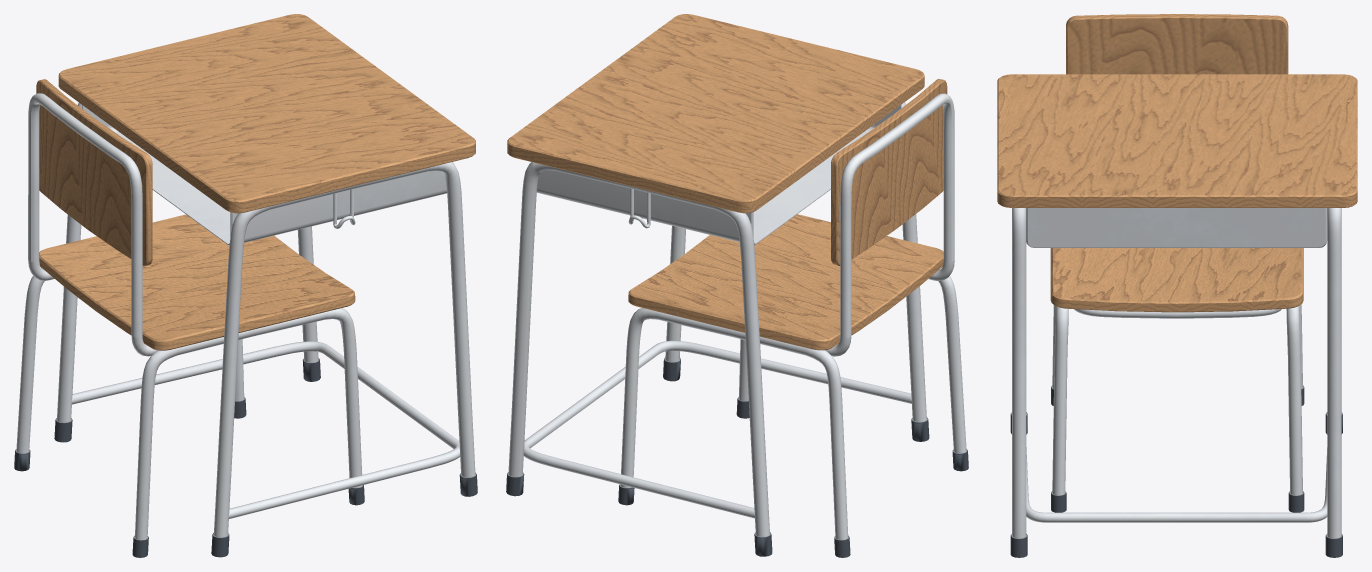
File: Chair.fbx
3 renders of one model, left to right at view 1: azimuth 30°, elevation 25°; view 2: azimuth 150°, elevation 25°; view 3: azimuth 270°, elevation 25°, orthographic.
Visible parts, largest first — view 1: Tables.076; view 2: Tables.076; view 3: Tables.076.
Boxes of the visible parts, left/top/right/bottom form: Tables.076: left=14, top=14, right=477, bottom=557; Tables.076: left=506, top=14, right=968, bottom=557; Tables.076: left=997, top=14, right=1357, bottom=557.
Size of the model in its own units: 520 by 602 by 500.
